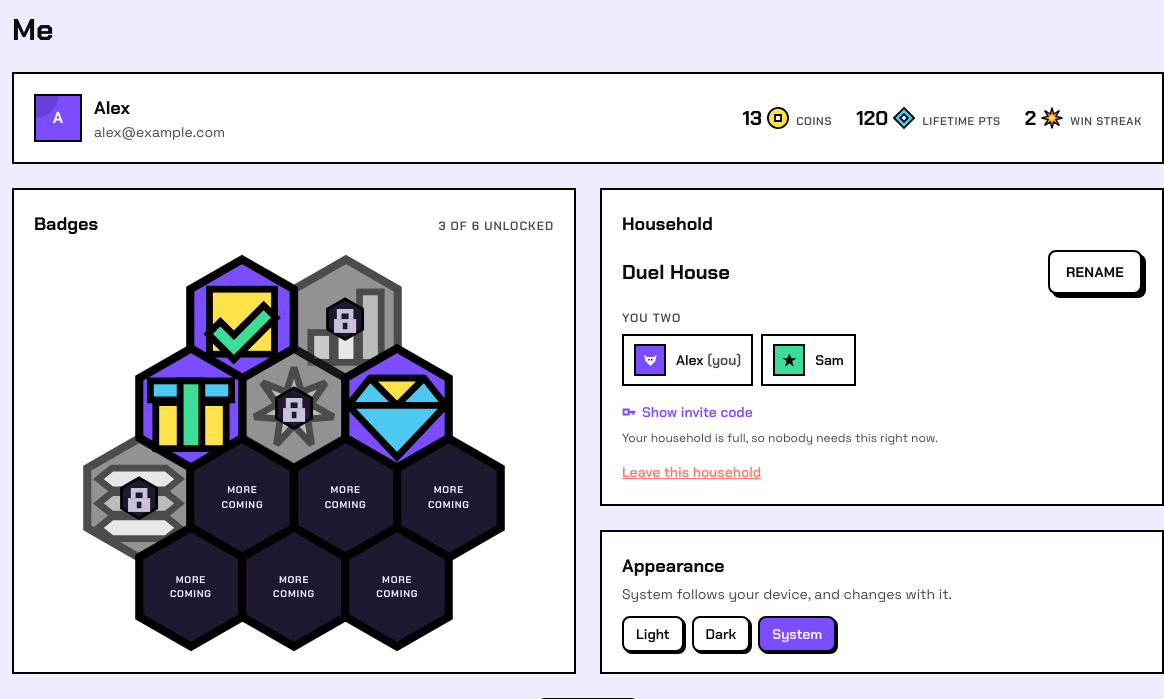
Test: the badge wall › serves the server’s criteria through a locked badge’s tip
Click the button named "3-day win streak, locked" at (346, 319), box [281,254,411,384]
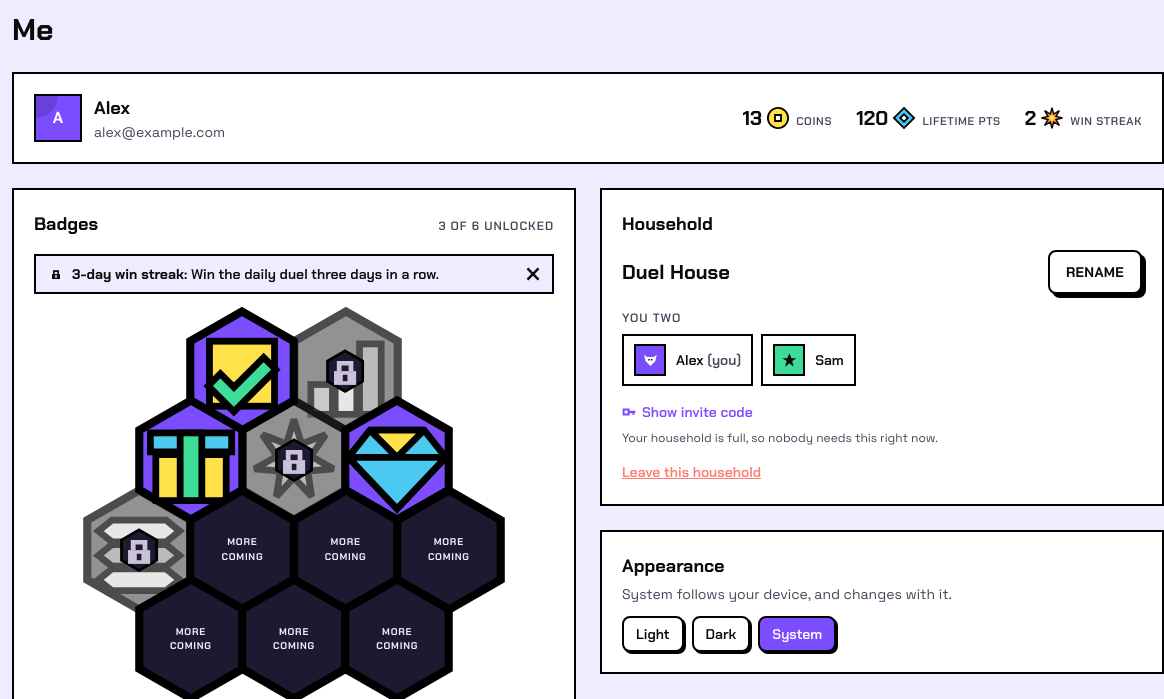
Expected: the message shows "Win the daily duel three days in a row.", [191,265,439,283]
